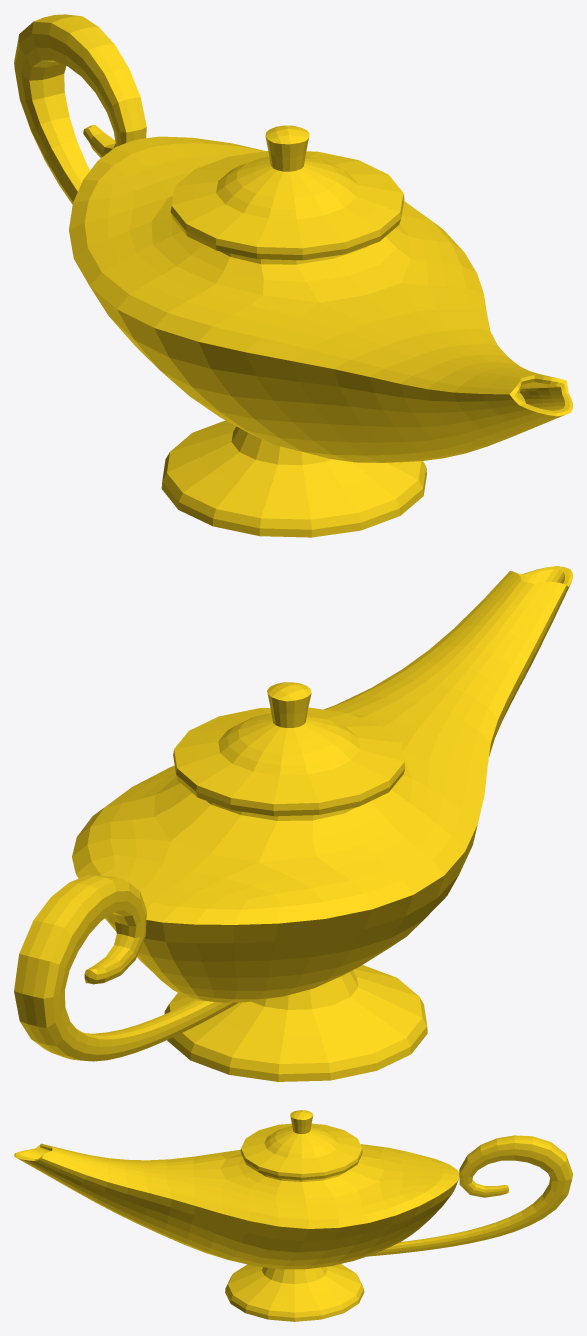
File: lamp2.glb
3 renders of one model, top to bottom at view 1: azimuth 30°, elevation 25°; view 2: azimuth 150°, elevation 25°; view 3: azimuth 270°, elevation 25°, orthographic. The views are drawn at different scales.
Parts seen in each view (by area): view 1: pot, lid, base, handle; view 2: pot, lid, base, handle; view 3: pot, handle, base, lid.
Boxes of the visible parts, left/top/right/bottom form: pot: left=69, top=136, right=572, bottom=462; lid: left=170, top=125, right=404, bottom=260; base: left=161, top=420, right=426, bottom=537; handle: left=14, top=14, right=146, bottom=204; pot: left=72, top=566, right=572, bottom=1002; lid: left=173, top=682, right=405, bottom=816; base: left=164, top=965, right=427, bottom=1081; handle: left=14, top=875, right=238, bottom=1061; pot: left=14, top=1143, right=459, bottom=1269; handle: left=367, top=1135, right=572, bottom=1256; base: left=225, top=1264, right=364, bottom=1321; lid: left=240, top=1110, right=362, bottom=1180.
Bounding box in the file's own units: 3 × 3.05 × 8.55.
